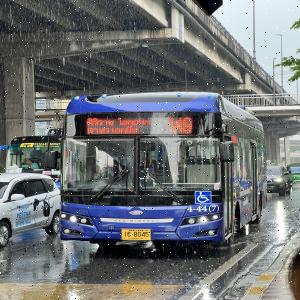Bus Line Number: (164, 116, 197, 134)
Bus Side Number: (184, 203, 221, 213)
Destination Sign: (83, 117, 153, 135)
TSB-Bus: (59, 92, 268, 254)
